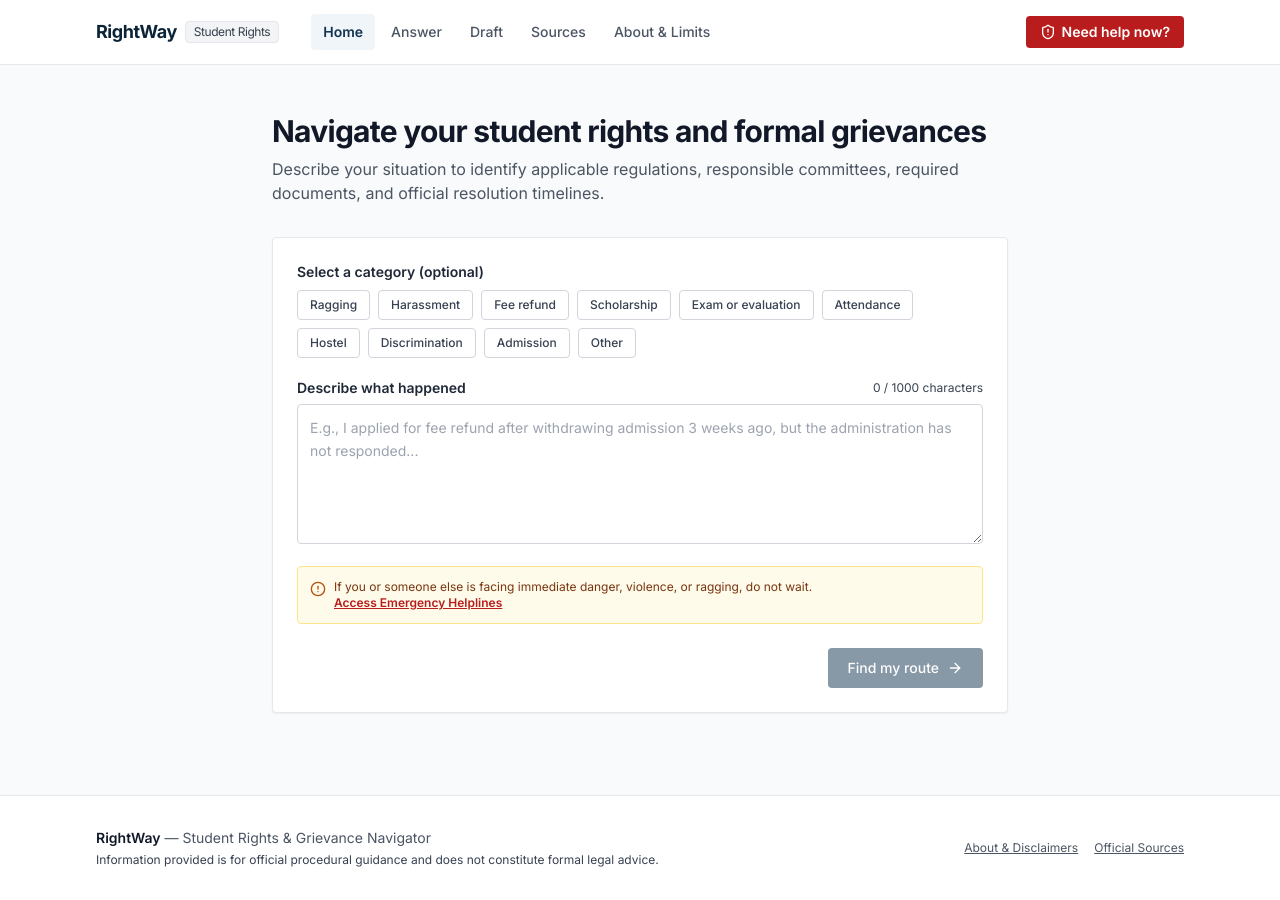
Test: Step 1: App Shell and Emergency Panel › shows 112 note even when emergency API call fails
Click the button "Need help now?".
click(1105, 32)  # box [1026,16,1184,48]
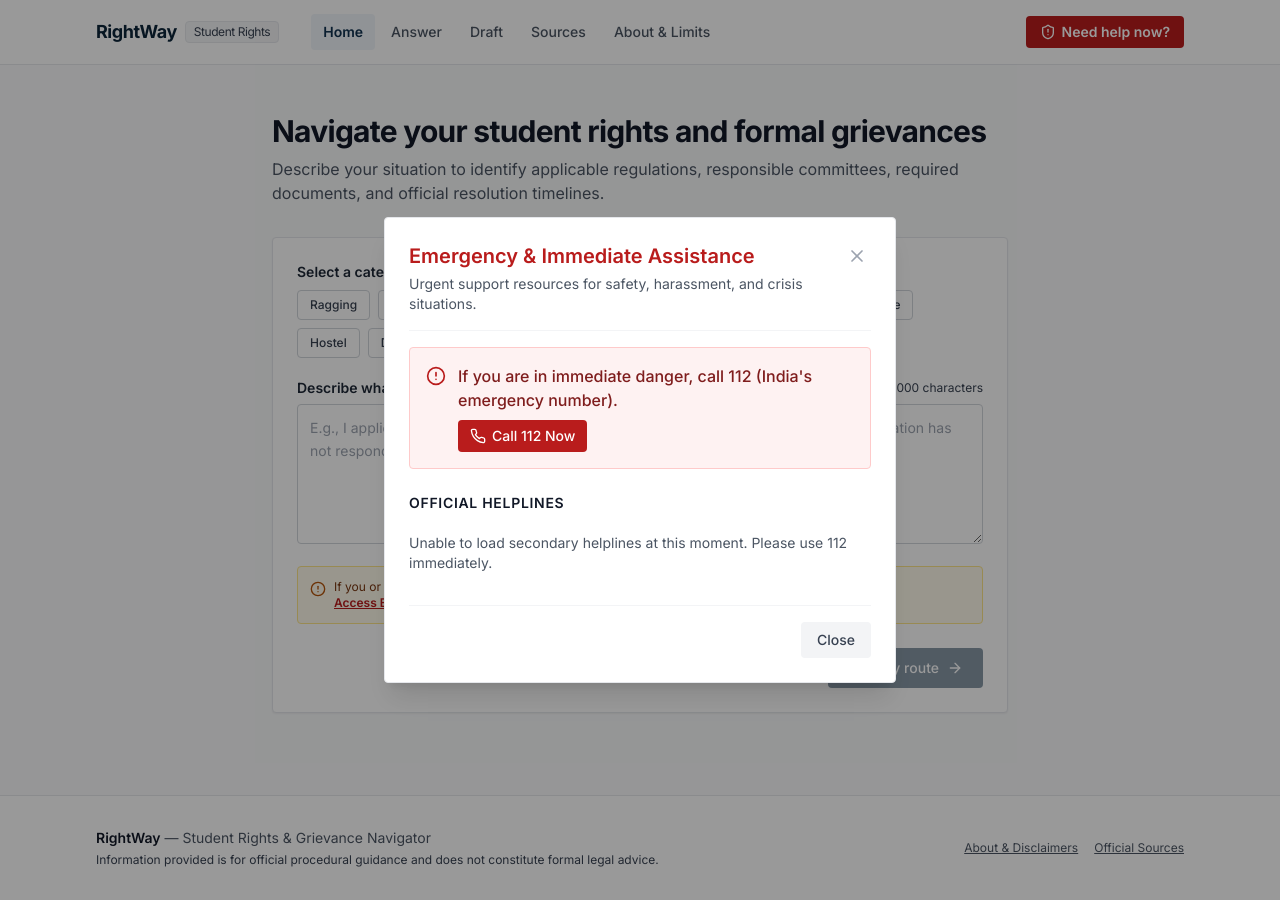
Expected: the dialog is shown
Expected: the text "If you are in immediate danger, call 112" is shown, [458,366,812,410]
Expected: the link "Call 112 Now" is shown, [458,420,587,452]
